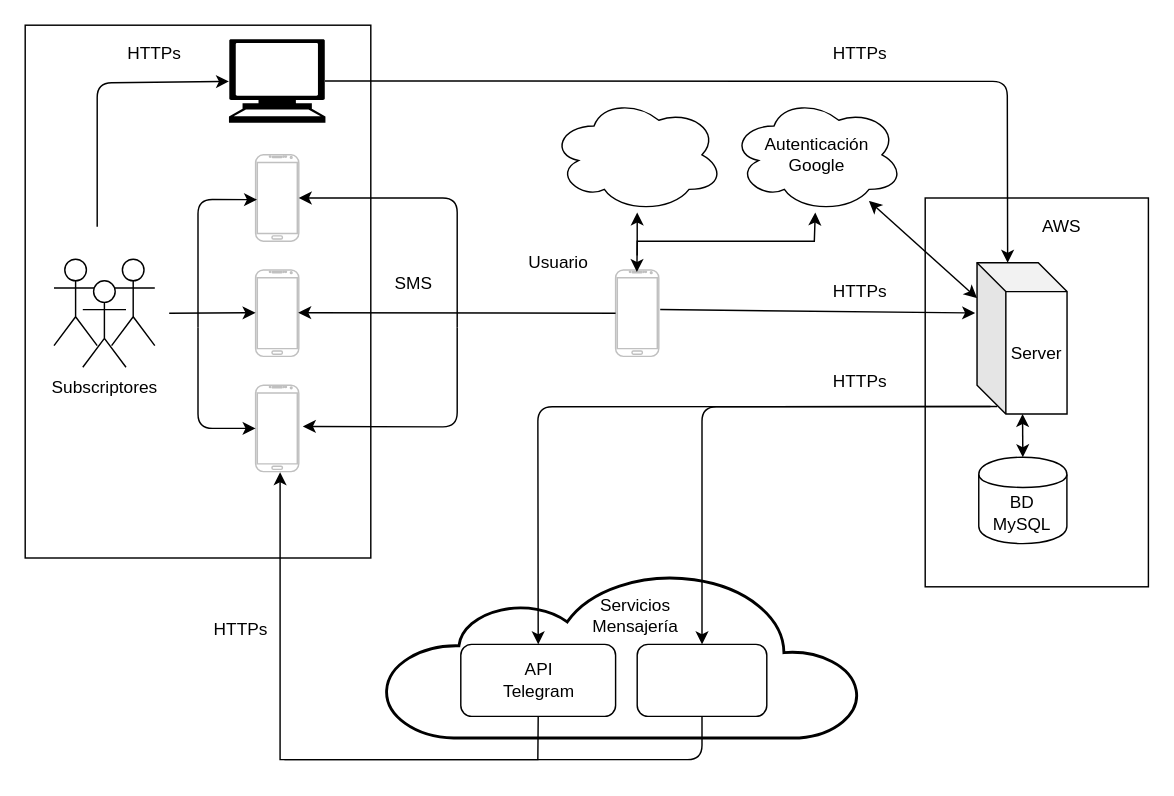
This 1174x796 diagram has some shape labels left out. The box of each missing label's shape, as (x1, y1, x2, y2) in pixels:
API Mail: (636, 643, 767, 716)
API Mapas: (549, 96, 724, 212)
Interfaz Web: (228, 38, 325, 122)
